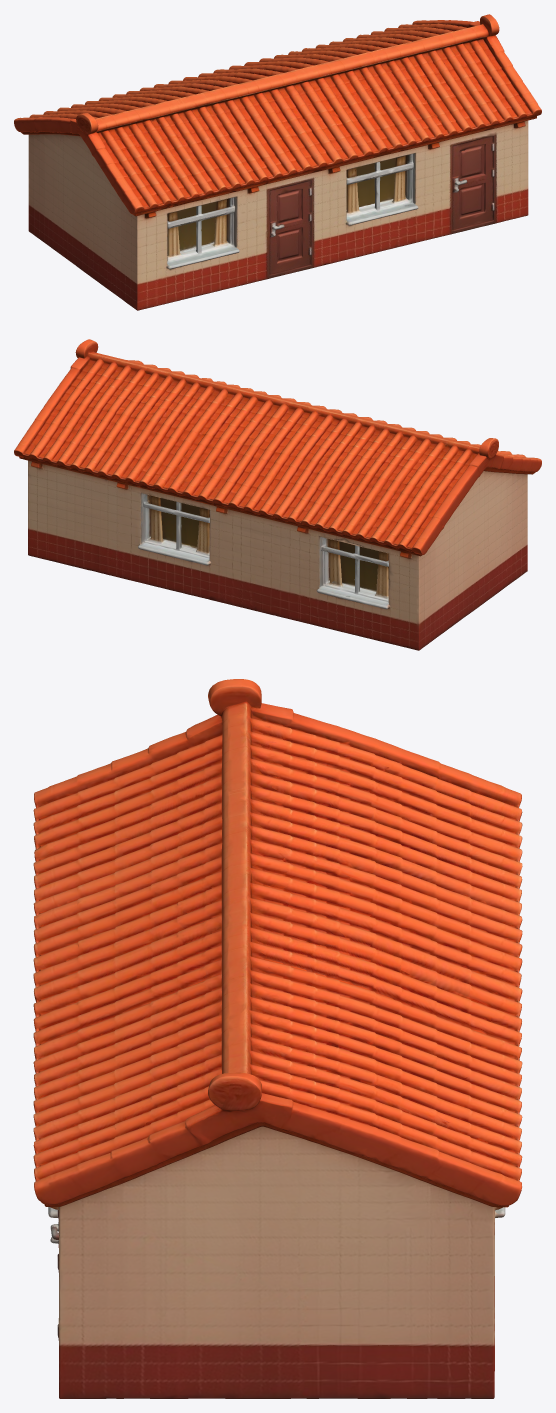
File: modern-house.glb
3 views of the same model, one above another, from view 1: azimuth 30°, elevation 25°; view 2: azimuth 150°, elevation 25°; view 3: azimuth 270°, elevation 25° (orthographic). The views are drawn at different scales.
Visible parts, largest first — view 1: tripo_node_f7538e17-56e6-48bc-afb3-464881e94d39; view 2: tripo_node_f7538e17-56e6-48bc-afb3-464881e94d39; view 3: tripo_node_f7538e17-56e6-48bc-afb3-464881e94d39.
Part boxes in pixels (box(x1,y1,x2,y2)): tripo_node_f7538e17-56e6-48bc-afb3-464881e94d39: box(14, 14, 541, 310); tripo_node_f7538e17-56e6-48bc-afb3-464881e94d39: box(14, 339, 541, 650); tripo_node_f7538e17-56e6-48bc-afb3-464881e94d39: box(33, 679, 522, 1398).
Bounding box in the file's own units: 1 × 0.3832 × 0.5132.
1 material, 1 textured.
